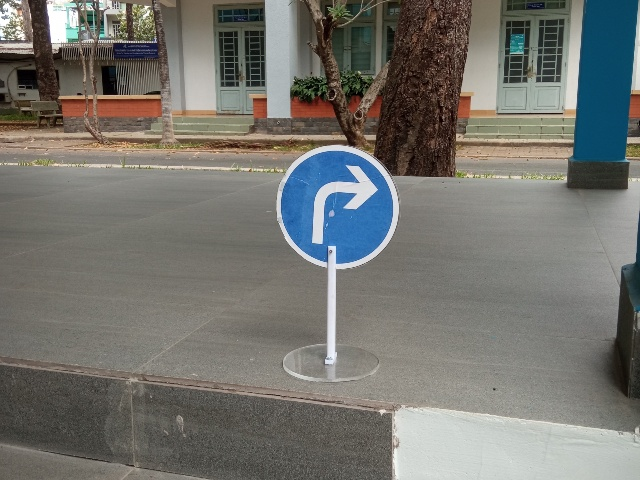Right_Sign: (276, 146, 400, 270)
